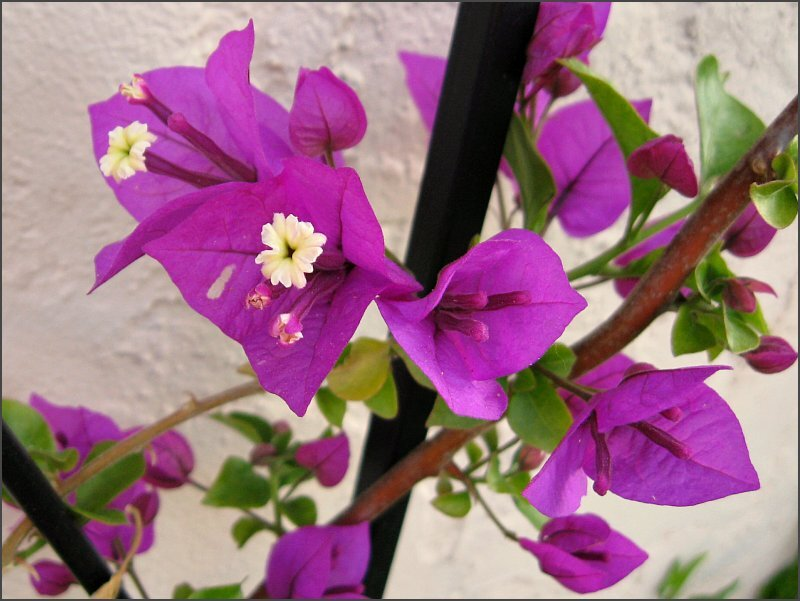bougainvillea: (162, 171, 393, 405), (84, 22, 253, 283), (388, 229, 586, 419), (530, 365, 758, 513)
